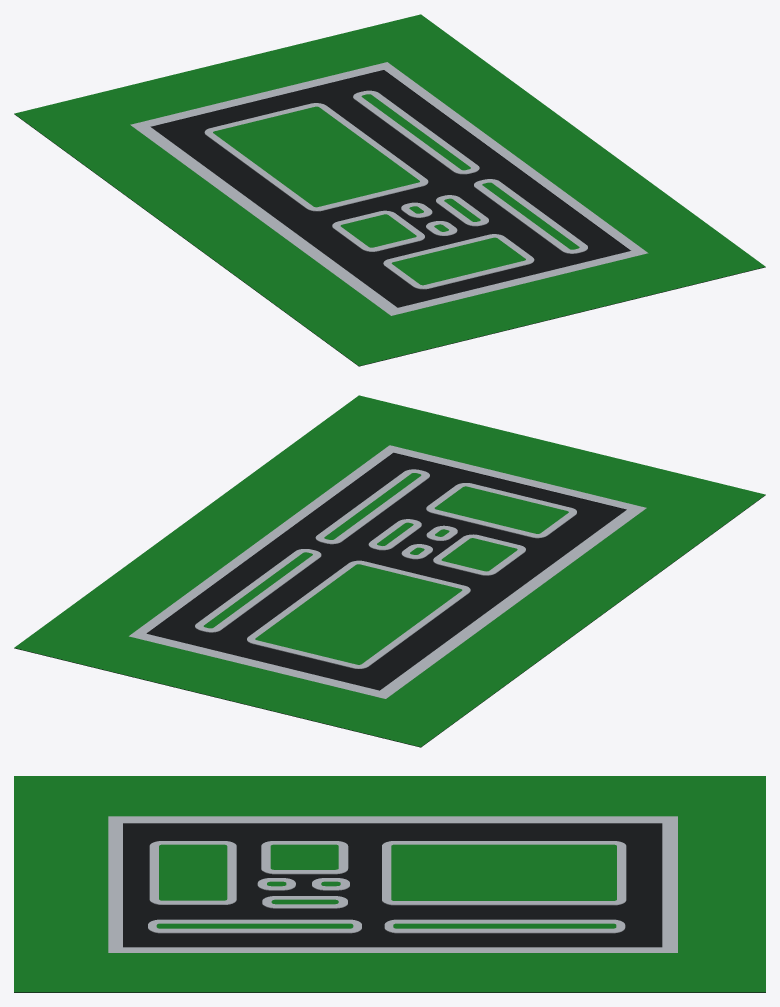
File: CarreteraNivel2.fbx
The picture shows the model from 3 angles, top to bottom: view 1: azimuth 30°, elevation 25°; view 2: azimuth 150°, elevation 25°; view 3: azimuth 270°, elevation 25°; orthographic projection. The views are drawn at different scales.
Parts seen in each view (by area): view 1: calles; view 2: calles; view 3: calles.
Part boxes in pixels (x1,y1,x2,y2): calles: [14, 14, 765, 366]; calles: [14, 395, 765, 747]; calles: [14, 776, 765, 992].
Bounding box in the file's own units: 13235 × 34.82 × 19432.
